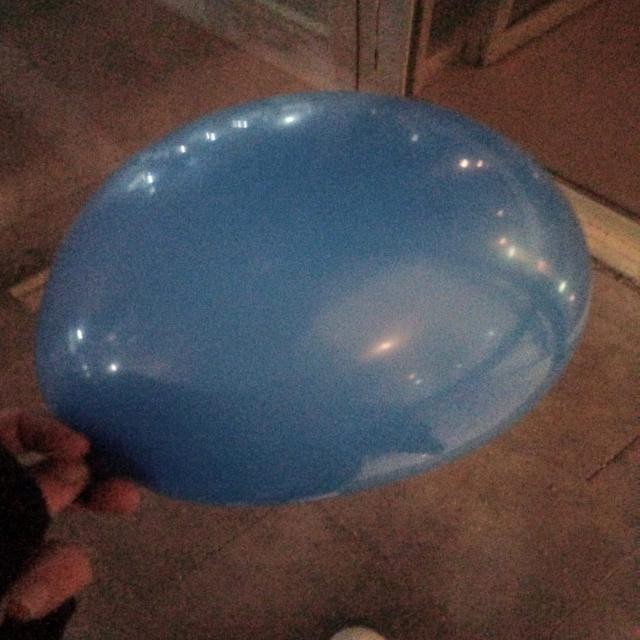balloon: (34, 92, 590, 506)
